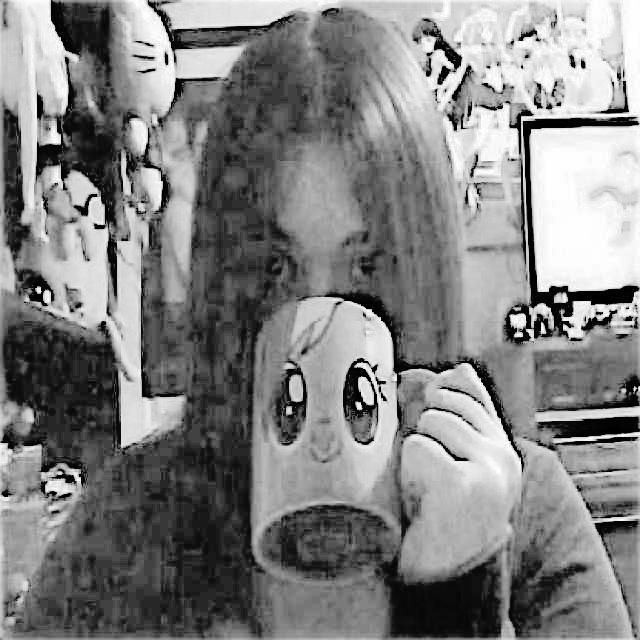Person: (14, 6, 633, 640)
